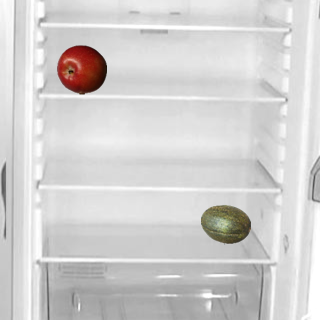Apple Braeburn: (56, 44, 106, 94)
Melon Piel de Sapo: (200, 199, 250, 249)
